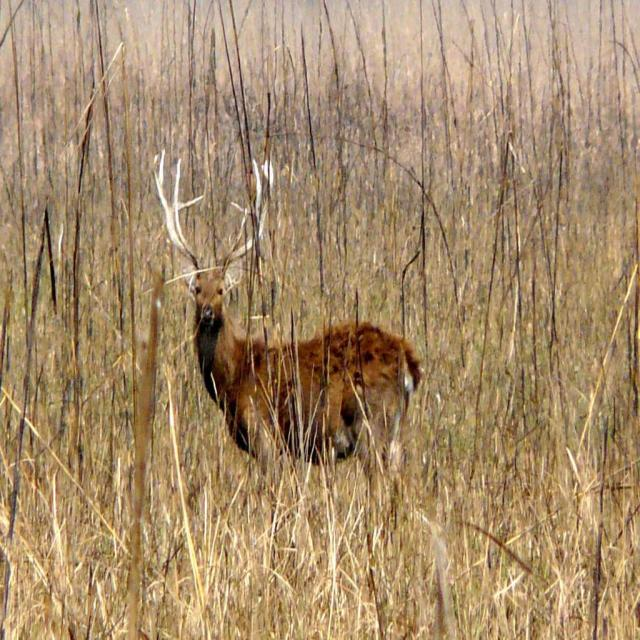Deer: (153, 150, 457, 639)
